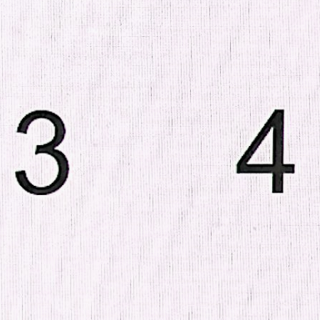four: (232, 107, 299, 198)
three: (12, 108, 72, 199)
